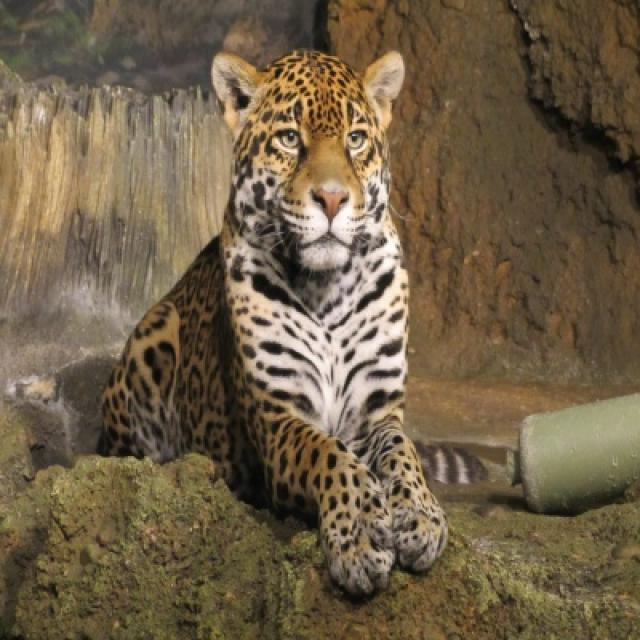Jaguar: (96, 50, 448, 608)
